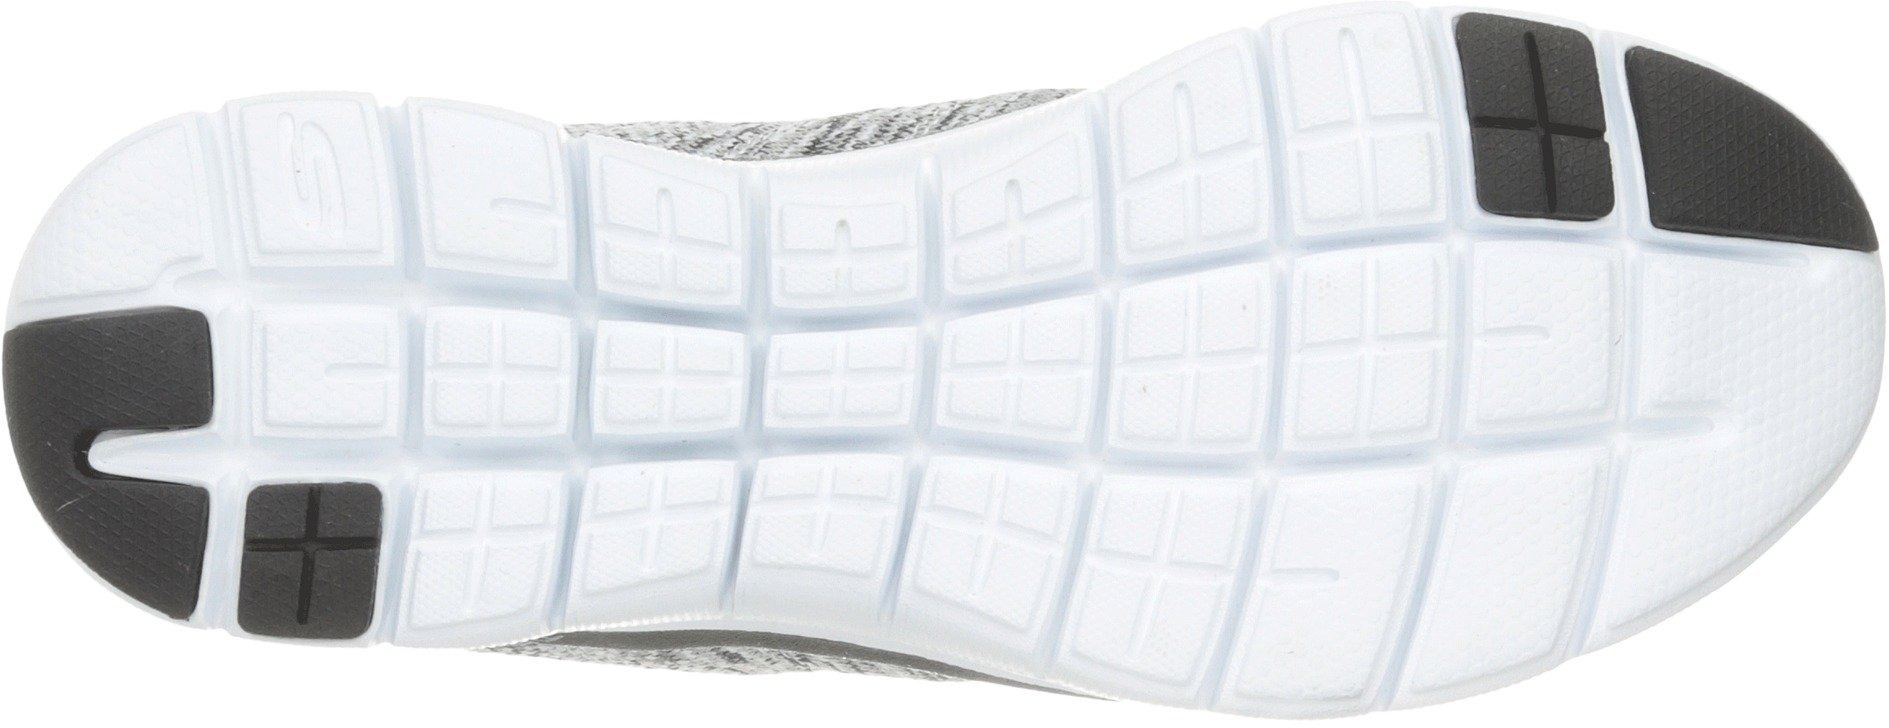line: (1096, 270, 1497, 644), (255, 303, 396, 438)
polygon: (1096, 270, 1497, 644), (255, 303, 396, 438), (1676, 274, 1802, 397), (73, 180, 169, 262)
quad: (1096, 270, 1497, 644), (419, 295, 725, 611), (765, 317, 1054, 620), (1143, 87, 1313, 262), (229, 469, 399, 636), (414, 299, 579, 445), (255, 303, 396, 438)
text: (246, 111, 382, 246)
